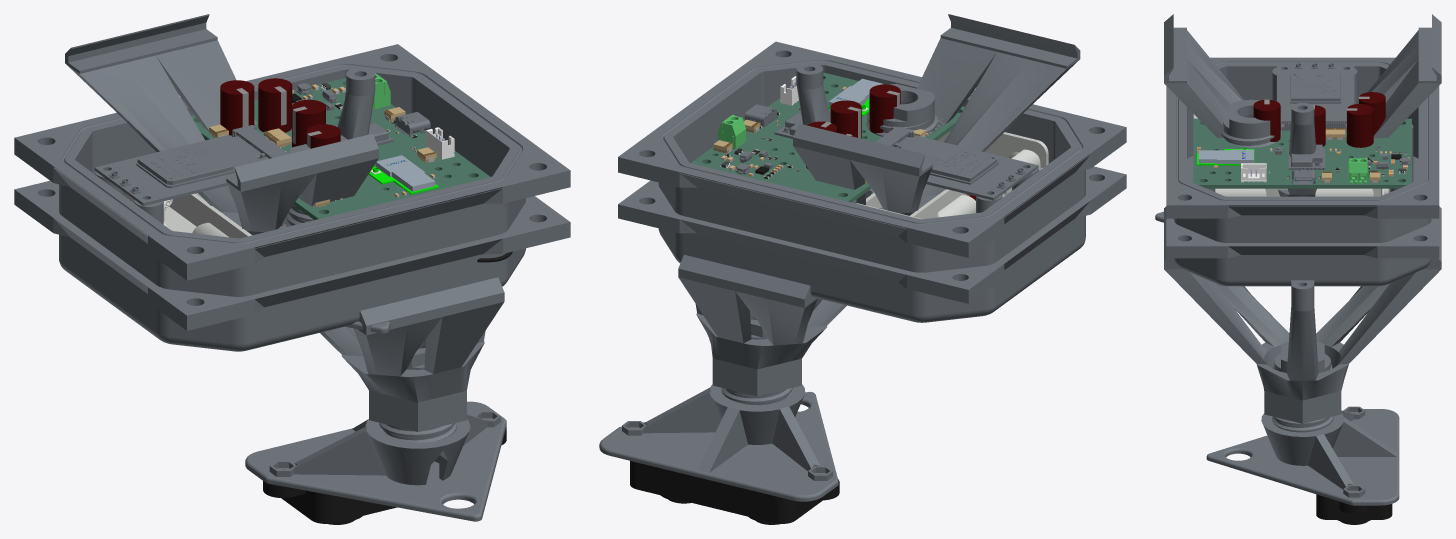
The model's file is RemoteTankMonitoring.gltf.
The picture shows the model from 3 angles, left to right: view 1: azimuth 30°, elevation 25°; view 2: azimuth 150°, elevation 25°; view 3: azimuth 270°, elevation 25°; orthographic projection. The views are drawn at different scales.
Parts seen in each view (by area): view 1: BottomCasing, Pocket010, UltrasonicMount, Casing2Ultrasonic, SubtractivePipe002, SubtractivePipe, SubtractivePipe003, RemoteTankMonitoring_PCB, Pocket015, BG95-M3_MINI_PCIE_PCB, 18650 Battery Holder 4x, DYP-A02-sensor v0 (+9 smaller); view 2: BottomCasing, Pocket010, UltrasonicMount, SubtractivePipe, SubtractivePipe002, Casing2Ultrasonic, SubtractivePipe003, RemoteTankMonitoring_PCB, DYP-A02-sensor v0, Pocket015, 18650 Battery Holder 4x, BG95-M3_MINI_PCIE_PCB (+6 smaller); view 3: BottomCasing, Casing2Ultrasonic, UltrasonicMount, Pocket010, SubtractivePipe, RemoteTankMonitoring_PCB, SubtractivePipe003, SubtractivePipe002, BG95-M3_MINI_PCIE_PCB, AdditiveHelix001, Pocket015, BG95_COVER (+12 smaller).
Boxes of the visible parts, bbox=[...] form: BottomCasing: bbox=[14, 44, 570, 351]; Pocket010: bbox=[65, 14, 378, 235]; UltrasonicMount: bbox=[245, 339, 506, 521]; Casing2Ultrasonic: bbox=[320, 277, 504, 431]; SubtractivePipe002: bbox=[14, 56, 570, 351]; SubtractivePipe: bbox=[14, 54, 570, 350]; SubtractivePipe003: bbox=[14, 180, 570, 343]; RemoteTankMonitoring_PCB: bbox=[191, 78, 490, 219]; Pocket015: bbox=[14, 189, 570, 341]; BG95-M3_MINI_PCIE_PCB: bbox=[94, 135, 268, 205]; 18650 Battery Holder 4x: bbox=[124, 192, 512, 262]; DYP-A02-sensor v0: bbox=[263, 427, 506, 524]; BottomCasing: bbox=[618, 41, 1126, 322]; Pocket010: bbox=[793, 14, 1080, 215]; UltrasonicMount: bbox=[599, 311, 838, 501]; SubtractivePipe: bbox=[618, 50, 1126, 321]; SubtractivePipe002: bbox=[618, 53, 1126, 322]; Casing2Ultrasonic: bbox=[678, 255, 846, 396]; SubtractivePipe003: bbox=[618, 166, 1126, 321]; RemoteTankMonitoring_PCB: bbox=[691, 72, 964, 202]; DYP-A02-sensor v0: bbox=[630, 461, 839, 524]; Pocket015: bbox=[618, 174, 1125, 313]; 18650 Battery Holder 4x: bbox=[856, 130, 1048, 219]; BG95-M3_MINI_PCIE_PCB: bbox=[898, 135, 1038, 200]; BottomCasing: bbox=[1166, 57, 1439, 298]; Casing2Ultrasonic: bbox=[1164, 206, 1441, 423]; UltrasonicMount: bbox=[1206, 341, 1399, 505]; Pocket010: bbox=[1164, 14, 1441, 196]; SubtractivePipe: bbox=[1166, 63, 1439, 286]; RemoteTankMonitoring_PCB: bbox=[1193, 118, 1411, 188]; SubtractivePipe003: bbox=[1166, 121, 1439, 279]; SubtractivePipe002: bbox=[1166, 67, 1439, 284]; BG95-M3_MINI_PCIE_PCB: bbox=[1277, 65, 1354, 114]; AdditiveHelix001: bbox=[1155, 99, 1282, 222]; Pocket015: bbox=[1166, 122, 1438, 279]; BG95_COVER: bbox=[1290, 73, 1340, 101].
Size of the model in its own units: 0.1552 by 0.1645 by 0.1113.
